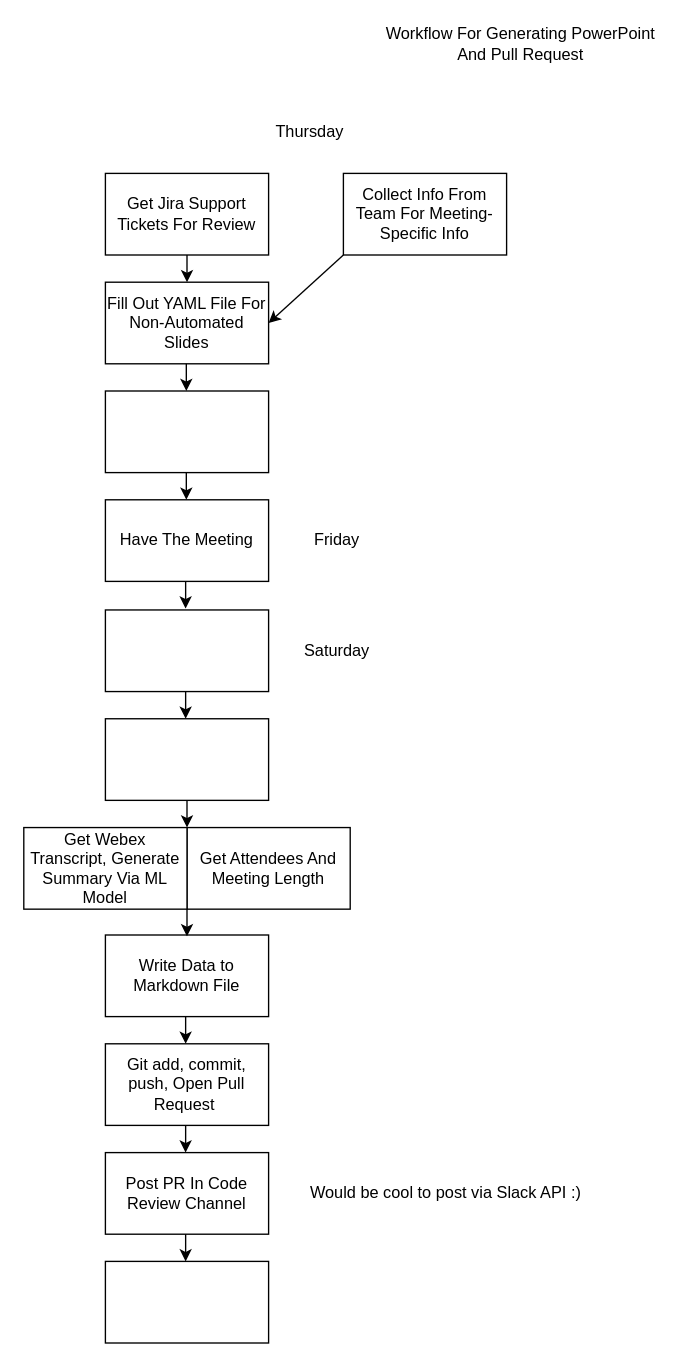
Some shapes in this 687 by 1367 pixel diagram are drawn without their labels. Here are the shapes that lost their labels. From the top down, the centre of each, then its label:
At (186,431): "Run Script To Generate PowerPoint".
At (186,650): "Automate PR To L2 Chapter Notes".
At (186,758): "Git pull Operations, Create Branch".
At (186,1301): "Merge Chapter Notes".
